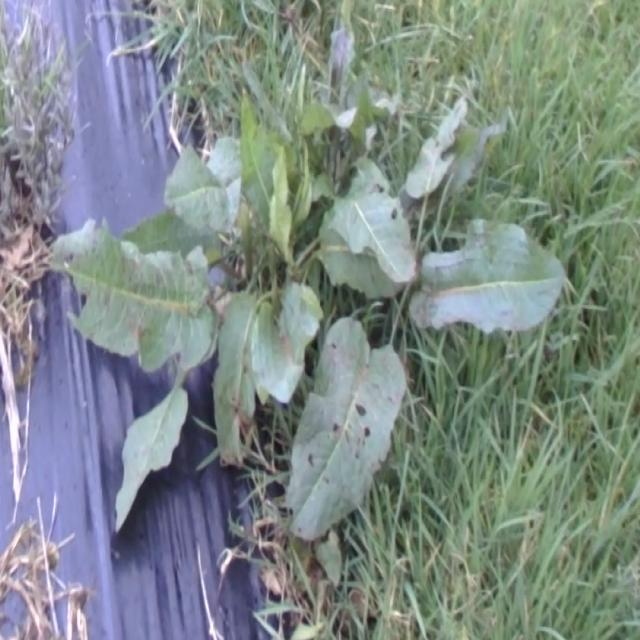organic waste: (39, 8, 588, 526)
